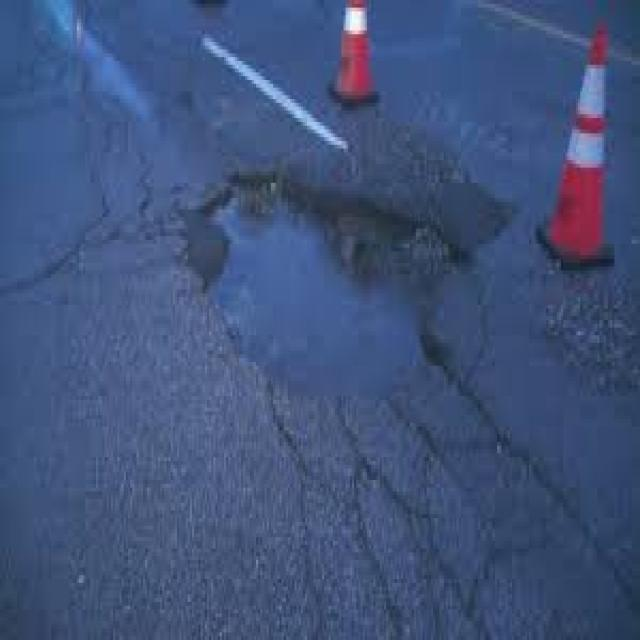pothole: (179, 170, 462, 404)
